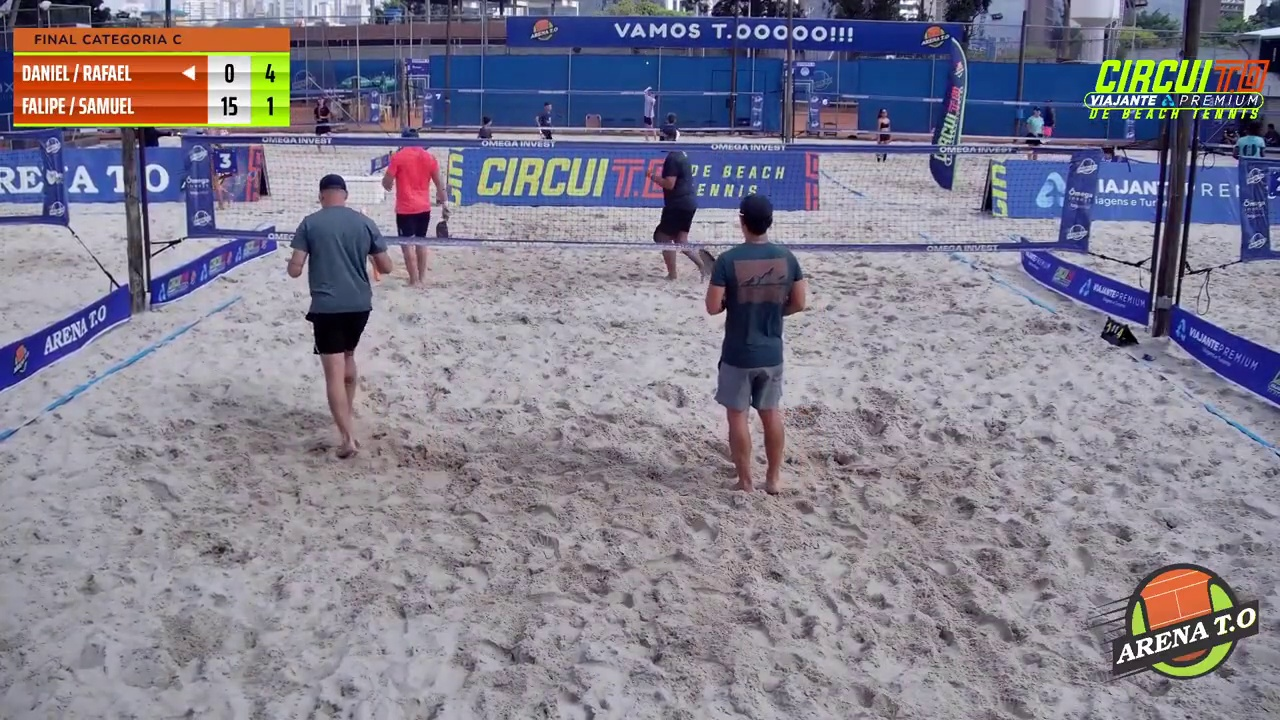court_line: (633, 0, 787, 447)
